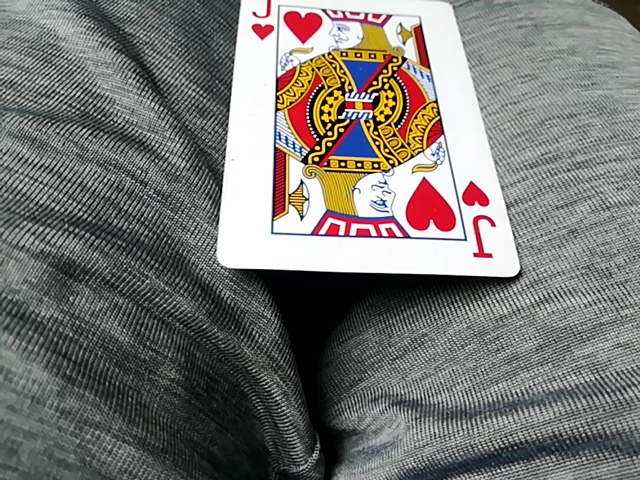hx j: (223, 0, 519, 283)
